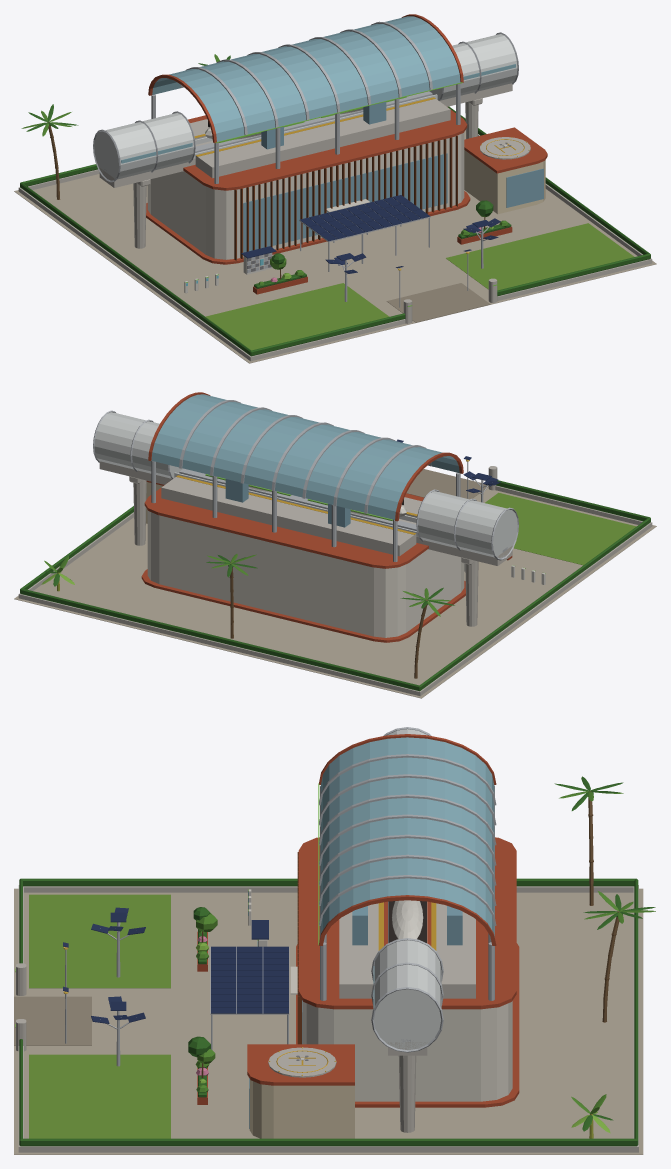
File: station.glb
3 renders of one model, top to bottom at view 1: azimuth 30°, elevation 25°; view 2: azimuth 150°, elevation 25°; view 3: azimuth 270°, elevation 25°, orthographic. The views are drawn at different scales.
Visible parts, largest first — view 1: body, windows; view 2: body; view 3: body, windows.
Boxes of the visible parts, box(x1,y1,x2,y2) form: body: box(14, 14, 656, 363); windows: box(185, 82, 529, 306); body: box(14, 392, 656, 698); body: box(14, 727, 655, 1154); windows: box(15, 783, 426, 1075).
Bounding box in the file's own units: 49.19 × 17.39 × 48.93.
